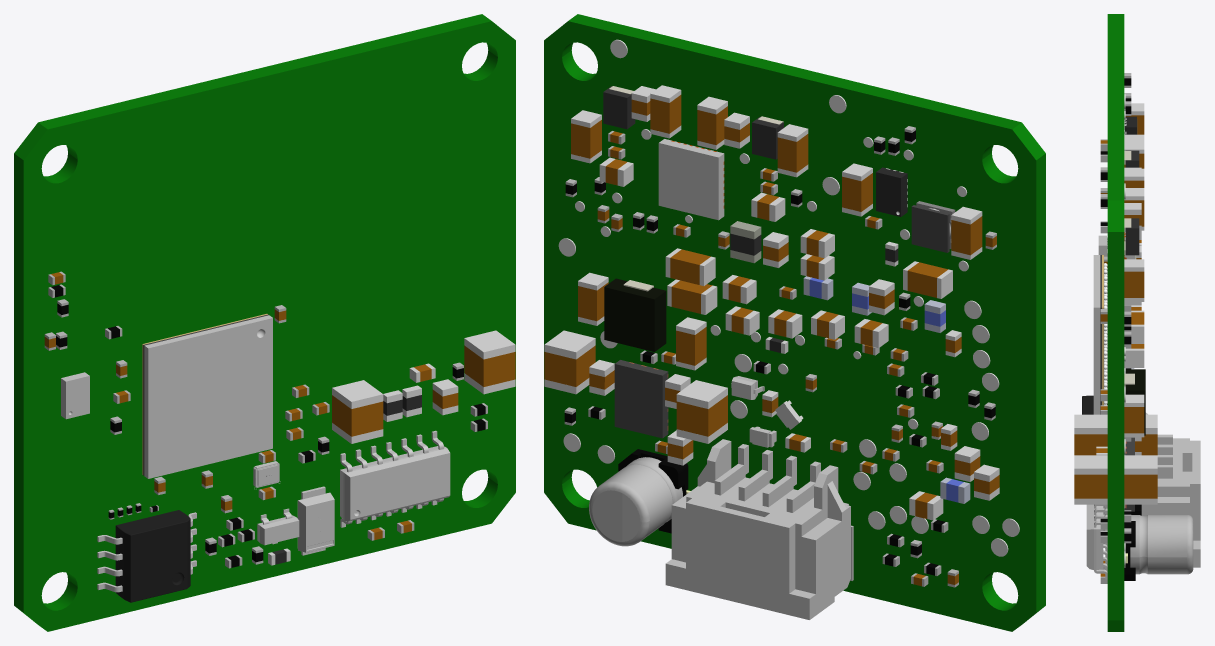
File: ROAS.glb
3 views of the same model, side by side, from view 1: azimuth 30°, elevation 25°; view 2: azimuth 150°, elevation 25°; view 3: azimuth 270°, elevation 25° (orthographic). The views are drawn at different scales.
Parts seen in each view (by area): view 1: empty_637, empty_1345, empty_649, empty_1331, empty_700, empty_410, empty_411, empty_324, empty_322, empty_1251; view 2: empty_637, empty_1375, empty_725, empty_706, empty_73, empty_651, empty_1364, empty_1367, empty_650, empty_338, empty_342, empty_697 (+18 smaller); view 3: empty_637, empty_725, empty_1367, empty_1347, empty_342, empty_411, empty_1396, empty_322, empty_253, empty_324, empty_410, empty_345 (+28 smaller).
Boxes of the visible parts, x1=… form: empty_637: x1=14, y1=14, x2=515, y2=631; empty_1345: x1=148, y1=318, x2=272, y2=478; empty_649: x1=115, y1=510, x2=190, y2=602; empty_1331: x1=350, y1=453, x2=450, y2=519; empty_700: x1=297, y1=492, x2=334, y2=552; empty_410: x1=332, y1=395, x2=383, y2=436; empty_411: x1=464, y1=345, x2=515, y2=386; empty_324: x1=464, y1=330, x2=515, y2=359; empty_322: x1=332, y1=380, x2=383, y2=408; empty_1251: x1=66, y1=376, x2=89, y2=419; empty_637: x1=544, y1=14, x2=1045, y2=631; empty_1375: x1=665, y1=503, x2=809, y2=619; empty_725: x1=589, y1=457, x2=682, y2=546; empty_706: x1=658, y1=139, x2=724, y2=220; empty_73: x1=604, y1=278, x2=666, y2=351; empty_651: x1=614, y1=360, x2=668, y2=438; empty_1364: x1=809, y1=506, x2=850, y2=619; empty_1367: x1=686, y1=477, x2=821, y2=527; empty_650: x1=911, y1=205, x2=949, y2=252; empty_338: x1=676, y1=395, x2=727, y2=436; empty_342: x1=544, y1=345, x2=595, y2=386; empty_697: x1=876, y1=167, x2=907, y2=216; empty_637: x1=1107, y1=14, x2=1124, y2=631; empty_725: x1=1130, y1=515, x2=1193, y2=574; empty_1367: x1=1157, y1=438, x2=1200, y2=486; empty_1347: x1=1093, y1=307, x2=1100, y2=414; empty_342: x1=1124, y1=474, x2=1157, y2=498; empty_411: x1=1074, y1=474, x2=1107, y2=498; empty_1396: x1=1141, y1=503, x2=1200, y2=567; empty_322: x1=1074, y1=414, x2=1107, y2=434; empty_253: x1=1124, y1=455, x2=1157, y2=474; empty_324: x1=1074, y1=455, x2=1107, y2=474; empty_410: x1=1074, y1=434, x2=1107, y2=455; empty_345: x1=1124, y1=407, x2=1144, y2=433.
Bounding box in the file's own units: 41 × 40 × 10.61.
